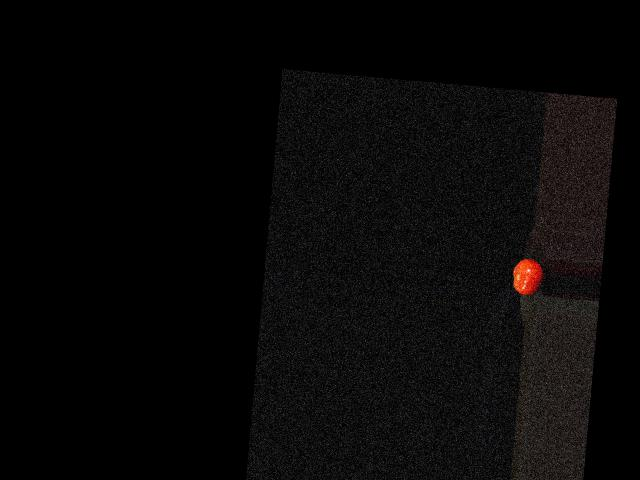tomato: (511, 257, 545, 296)
